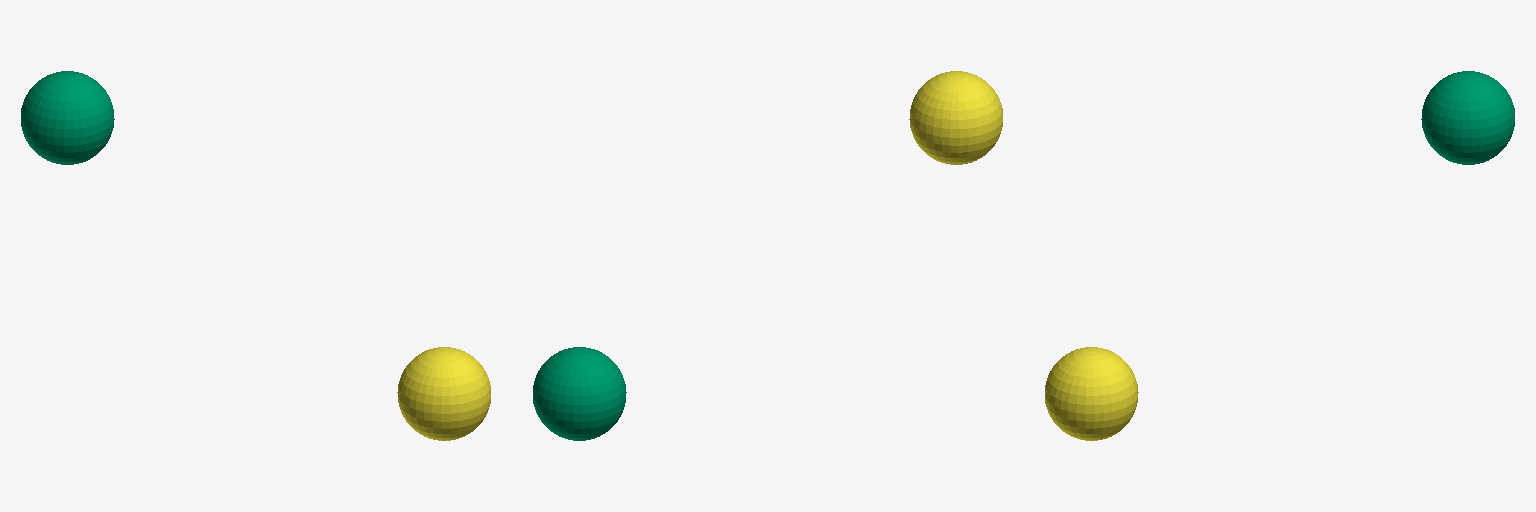
robot.urdf — f1_renault:
<?xml version="1.0" ?>
<robot name="f1_renault">
  <joint name="f1_renault__camera_left" type="fixed">
    <parent link="f1_renault__f1"/>
    <child link="f1_renault__camera_top_body_left"/>
    <origin xyz="0.45 0.04 0.1" rpy="0 0 0"/>
    <axis xyz="0 0 0"/>
    <limit lower="0" upper="0" effort="0" velocity="0"/>
  </joint>
  <joint name="f1_renault__camera_right" type="fixed">
    <parent link="f1_renault__f1"/>
    <child link="f1_renault__camera_top_body_right"/>
    <origin xyz="0.45 -0.04  0.1" rpy="0 0 0"/>
    <axis xyz="0 0 0"/>
    <limit lower="0" upper="0" effort="0" velocity="0"/>
  </joint>
  <joint name="f1_renault__laser_fix" type="fixed">
    <parent link="f1_renault__f1"/>
    <child link="f1_renault__laser_body"/>
    <origin xyz="0.5     0      0.07199" rpy="0 0 0"/>
    <axis xyz="0 0 0"/>
    <limit lower="0" upper="0" effort="0" velocity="0"/>
  </joint>
  <link name="f1_renault__f1">
    <inertial>
      <mass value="10"/>
      <origin xyz="0 0 0" rpy="0 0 0"/>
      <inertia ixx="1" ixy="0.0" ixz="0.0" iyy="1" iyz="0.0" izz="1.0"/>
    </inertial>
    <collision name="f1_renault__collision">
      <origin xyz="0 0 0" rpy="0 0 0"/>
      <geometry>
        <mesh filename="package://f1_gazebo/models/f1_renault_laser/Renault/Car.obj" scale="0.2 0.2 0.2"/>
      </geometry>
    </collision>
    <visual name="f1_renault__visual">
      <origin xyz="0 0 0" rpy="0 0 0"/>
      <geometry>
        <mesh filename="package://f1_gazebo/models/f1_renault_laser/Renault/Car.obj" scale="0.2 0.2 0.2"/>
      </geometry>
    </visual>
  </link>
  <link name="f1_renault__laser_body">
    <inertial>
      <mass value="0"/>
      <origin xyz="0 0 0" rpy="0 0 0"/>
      <inertia ixx="0" ixy="0" ixz="0" iyy="0" iyz="0" izz="0"/>
    </inertial>
    <visual name="f1_renault__visual_laser">
      <origin xyz="0 0 0" rpy="0 0 0"/>
      <geometry>
        <mesh filename="package://f1_gazebo/models/f1_renault_laser/meshes/hokuyo.dae" scale="1.0 1.0 1.0"/>
      </geometry>
    </visual>
  </link>
  <link name="f1_renault__camera_top_body_left">
    <inertial>
      <mass value="2"/>
      <origin xyz="0 0 0" rpy="0 0 0"/>
      <inertia ixx="1.000000" ixy="0.000000" ixz="0.000000" iyy="1.000000" iyz="0.000000" izz="1.000000"/>
    </inertial>
    <collision name="f1_renault__collision">
      <origin xyz="0 0 0" rpy="0 0 0"/>
      <geometry>
        <box size="0.100000 0.100000 0.100000"/>
      </geometry>
    </collision>
    <visual name="f1_renault__visual">
      <origin xyz="0 0 0" rpy="0 0 0"/>
      <geometry>
        <sphere radius=".005"/>
      </geometry>
    </visual>
  </link>
  <link name="f1_renault__camera_top_body_right">
    <inertial>
      <mass value="2"/>
      <origin xyz="0 0 0" rpy="0 0 0"/>
      <inertia ixx="1.000000" ixy="0.000000" ixz="0.000000" iyy="1.000000" iyz="0.000000" izz="1.000000"/>
    </inertial>
    <collision name="f1_renault__collision">
      <origin xyz="0 0 0" rpy="0 0 0"/>
      <geometry>
        <box size="0.100000 0.100000 0.100000"/>
      </geometry>
    </collision>
    <visual name="f1_renault__visual">
      <origin xyz="0 0 0" rpy="0 0 0"/>
      <geometry>
        <sphere radius=".005"/>
      </geometry>
    </visual>
  </link>
  
  <gazebo reference="f1_renault__laser_fix">
    <sensor name='laser' type='ray'>
      <ray>
        <scan>
          <horizontal>
            <samples>180</samples>
            <resolution>1.000000</resolution>
            <min_angle>-1.570000</min_angle>
            <max_angle>1.570000</max_angle>
          </horizontal>
        </scan>
        <range>
          <min>0.080000</min>
          <max>10.000000</max>
          <resolution>0.010000</resolution>
        </range>
      </ray>
      <update_rate>20.000000</update_rate>
      <plugin name="gazebo_ros_head_hokuyo_controller" filename="libgazebo_ros_laser.so">
        <topicName>/F1ROS/laser/scan</topicName>
        <frameName>laser</frameName>
      </plugin>
      <always_on>1</always_on>
      <visualize>1</visualize>
    </sensor>
  </gazebo>
</robot>

--- Facts derived from the render (not from the file) ---
Views: 3 orthographic renders of the robot side by side, from view 1: azimuth 30°, elevation 25°; view 2: azimuth 150°, elevation 25°; view 3: azimuth 330°, elevation 25°.
Robot: f1_renault — 4 links, 3 joints (3 fixed); root link f1_renault__f1; default pose: every joint at zero.
Visible links, largest first — view 1: f1_renault__camera_top_body_left, f1_renault__camera_top_body_right; view 2: f1_renault__camera_top_body_left, f1_renault__camera_top_body_right; view 3: f1_renault__camera_top_body_left, f1_renault__camera_top_body_right.
Link boxes in pixels (left/top/right/bottom): f1_renault__camera_top_body_left: left=21, top=71, right=114, bottom=164; f1_renault__camera_top_body_right: left=397, top=347, right=490, bottom=440; f1_renault__camera_top_body_left: left=533, top=347, right=626, bottom=440; f1_renault__camera_top_body_right: left=909, top=71, right=1002, bottom=164; f1_renault__camera_top_body_left: left=1421, top=71, right=1514, bottom=164; f1_renault__camera_top_body_right: left=1045, top=347, right=1138, bottom=440.
Size in the robot's own frame: 0.01 by 0.09 by 0.01 metres.
Meshes: 2 distinct files referenced, 0 mesh visuals loaded (none loaded); not drawn: 2 (reference not matched to a file when rendering).
